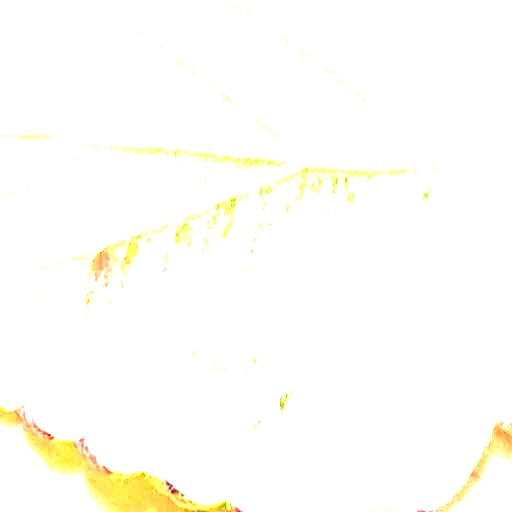Angular Leafspot: (0, 156, 511, 511)
